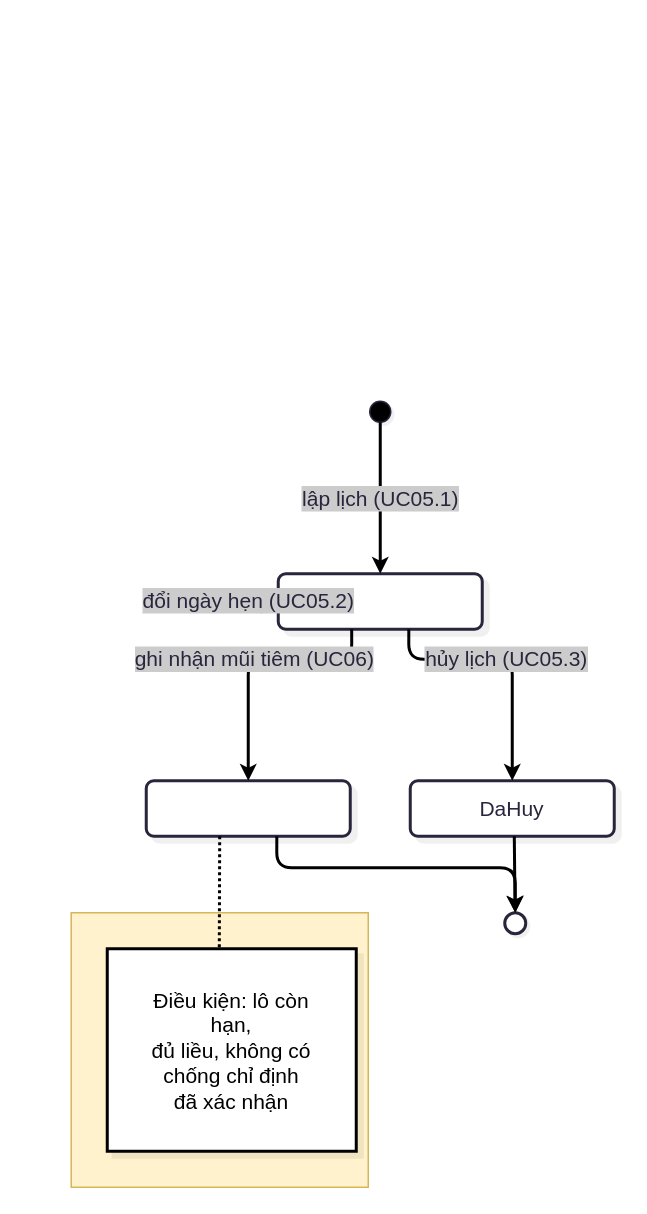
Some shapes in this 647 by 1214 pixel diagram are drawn without their labels. The shapes that lost their labels are listed below. From the top down, each one's centre as x and y in pixels, then its label:
At [382,604]: "ChoTiem".
At [250,810]: "DaTiem".
